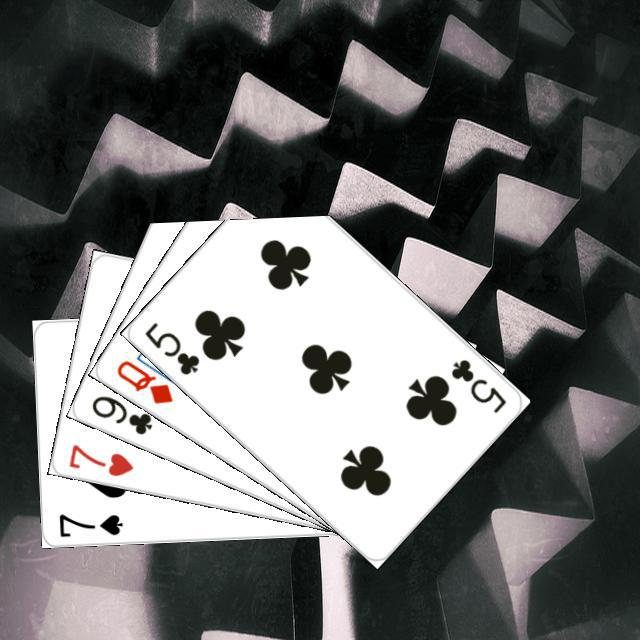5c: (445, 354, 509, 415), (139, 317, 202, 377)
7h: (64, 439, 135, 478)
7s: (54, 509, 125, 539)
9c: (86, 390, 154, 437)
Qd: (111, 355, 175, 406)
